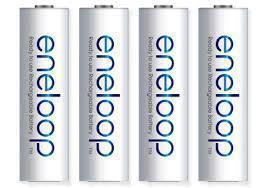AA: (137, 3, 191, 183), (17, 3, 70, 183), (77, 3, 130, 183), (196, 3, 249, 183)
